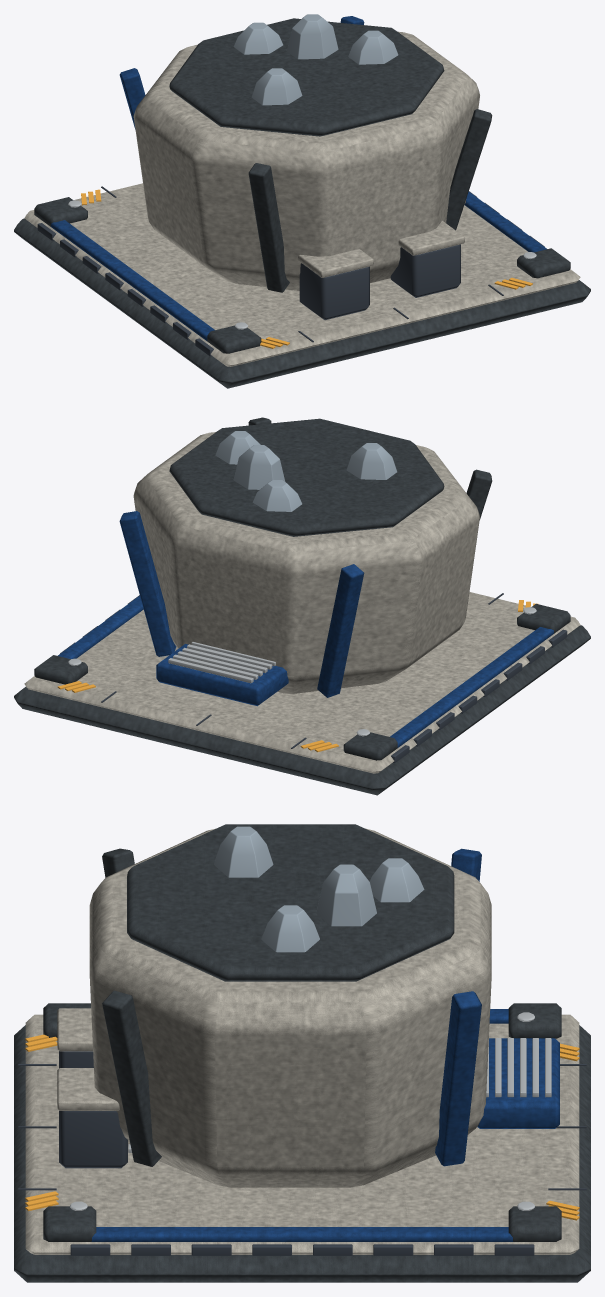
File: solis_reservoir_de_minerai.gltf
The picture shows the model from 3 angles, top to bottom: view 1: azimuth 30°, elevation 25°; view 2: azimuth 150°, elevation 25°; view 3: azimuth 270°, elevation 25°; orthographic projection. The views are drawn at different scales.
Parts seen in each view (by area): view 1: Building.008_Geometry; view 2: Building.008_Geometry, Conveyor_0.001_Geometry; view 3: Building.008_Geometry, Conveyor_0.001_Geometry.
Part boxes in pixels (bbox=[...]): Building.008_Geometry: bbox=[14, 14, 590, 388]; Building.008_Geometry: bbox=[14, 417, 590, 795]; Conveyor_0.001_Geometry: bbox=[156, 644, 288, 706]; Building.008_Geometry: bbox=[14, 824, 590, 1282]; Conveyor_0.001_Geometry: bbox=[477, 1038, 559, 1128].
Size of the model in its own units: 3.92 by 2.36 by 3.92.
Materials: 8 (3 with a texture image).
